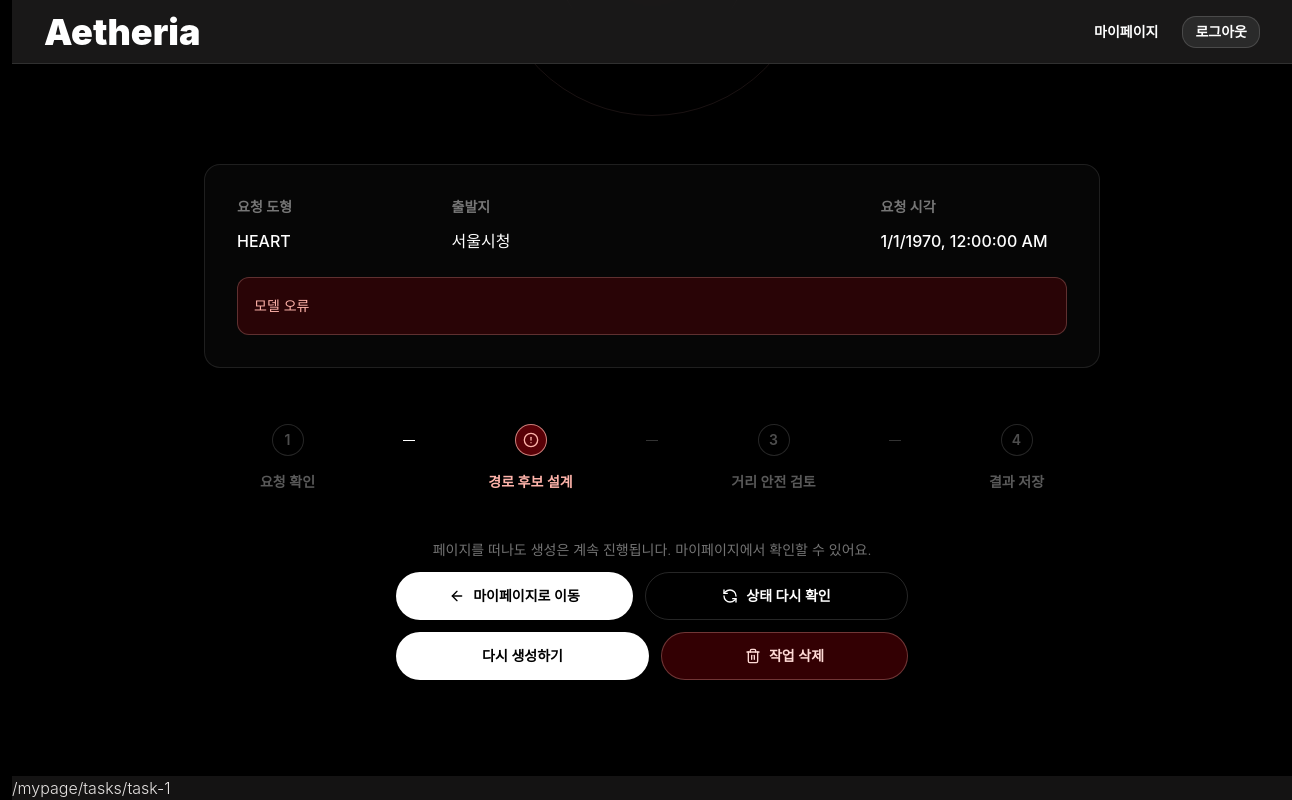
Test: GenerationStatusPage › retries a failed task with the same request options and opens the new task
The width and height of the screenshot is (1292, 800).
(page scrolled)
Click the button "다시 생성하기" at x=522, y=656, box [396, 632, 649, 680]
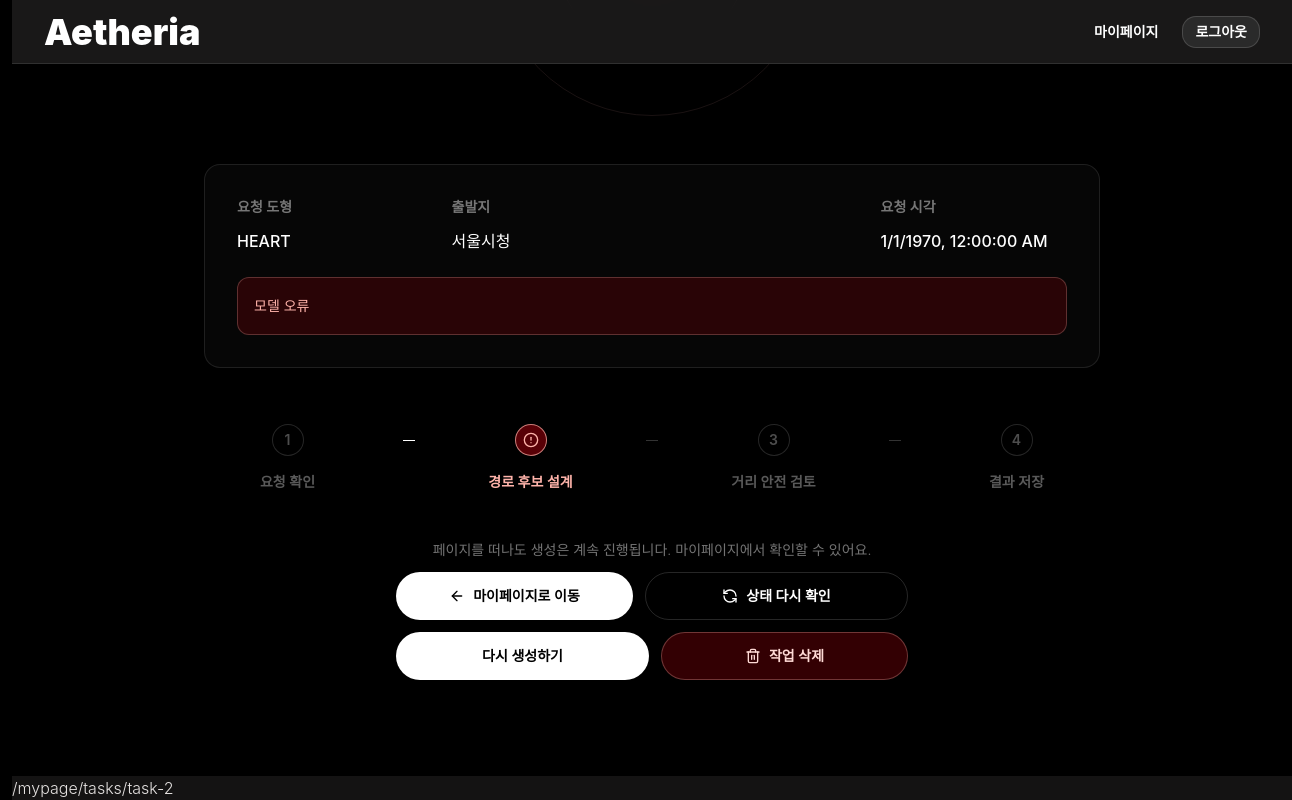
Expected: the text with test id "location" reads "/mypage/tasks/task-2", [12, 778, 174, 798]
